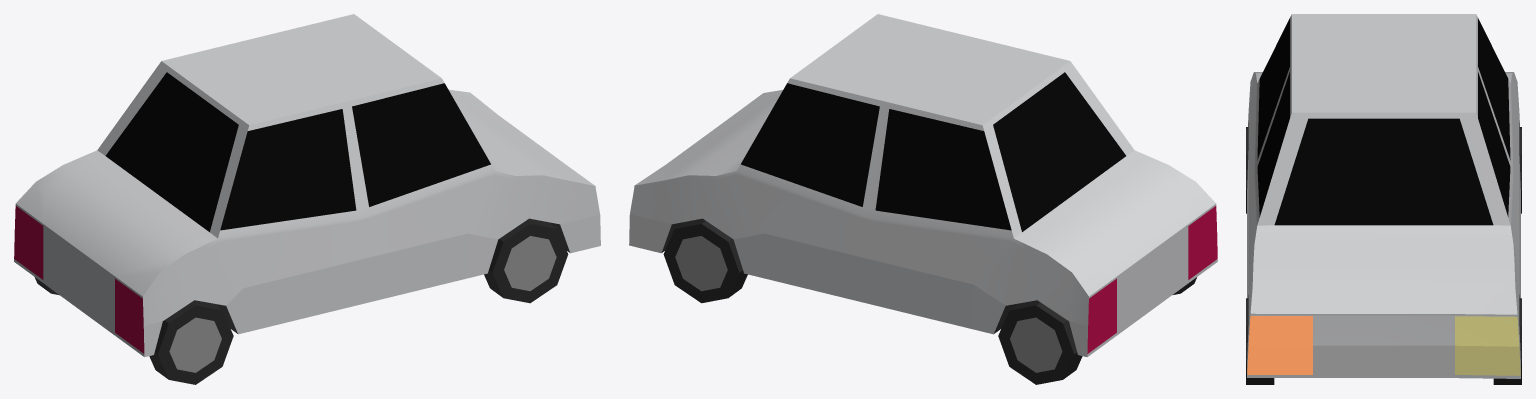
File: Car_02.fbx
3 views of the same model, side by side, from view 1: azimuth 30°, elevation 25°; view 2: azimuth 150°, elevation 25°; view 3: azimuth 270°, elevation 25° (orthographic). The views are drawn at different scales.
Parts seen in each view (by area): view 1: Car_02; view 2: Car_02; view 3: Car_02.
Part boxes in pixels (box(x1,y1,x2,y2)): Car_02: box(14, 14, 600, 384); Car_02: box(629, 14, 1217, 384); Car_02: box(1246, 14, 1521, 384).
Bounding box in the file's own units: 304 × 143 × 151.
2 materials, 1 textured.
